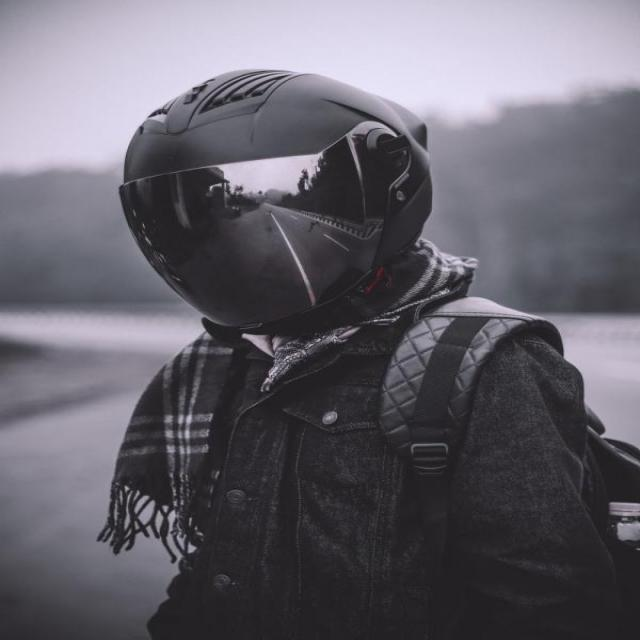Helmet: (114, 43, 448, 352)
